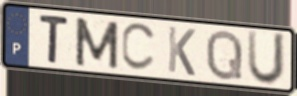C: (120, 22, 160, 74)
K: (166, 24, 198, 79)
M: (73, 15, 121, 71)
Q: (204, 28, 245, 82)
T: (37, 12, 71, 66)
U: (245, 29, 288, 88)
